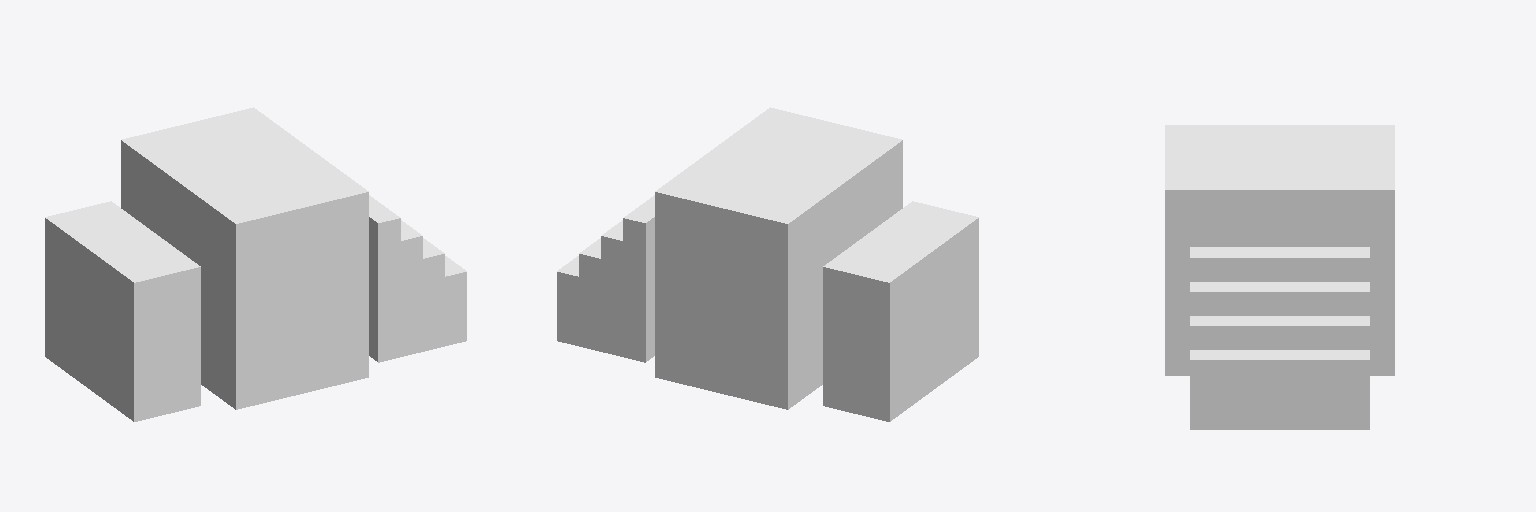
The model's file is generator.obj.
The picture shows the model from 3 angles: view 1: azimuth 30°, elevation 25°; view 2: azimuth 150°, elevation 25°; view 3: azimuth 270°, elevation 25°; orthographic projection.
Parts seen in each view (by area): view 1: object 1; view 2: object 1; view 3: object 1.
Part boxes in pixels (x1,y1,x2,y2): object 1: (45,107,466,421); object 1: (557,107,978,421); object 1: (1165,125,1394,429).
Bounding box in the file's own units: 1.5 × 0.8 × 0.9.